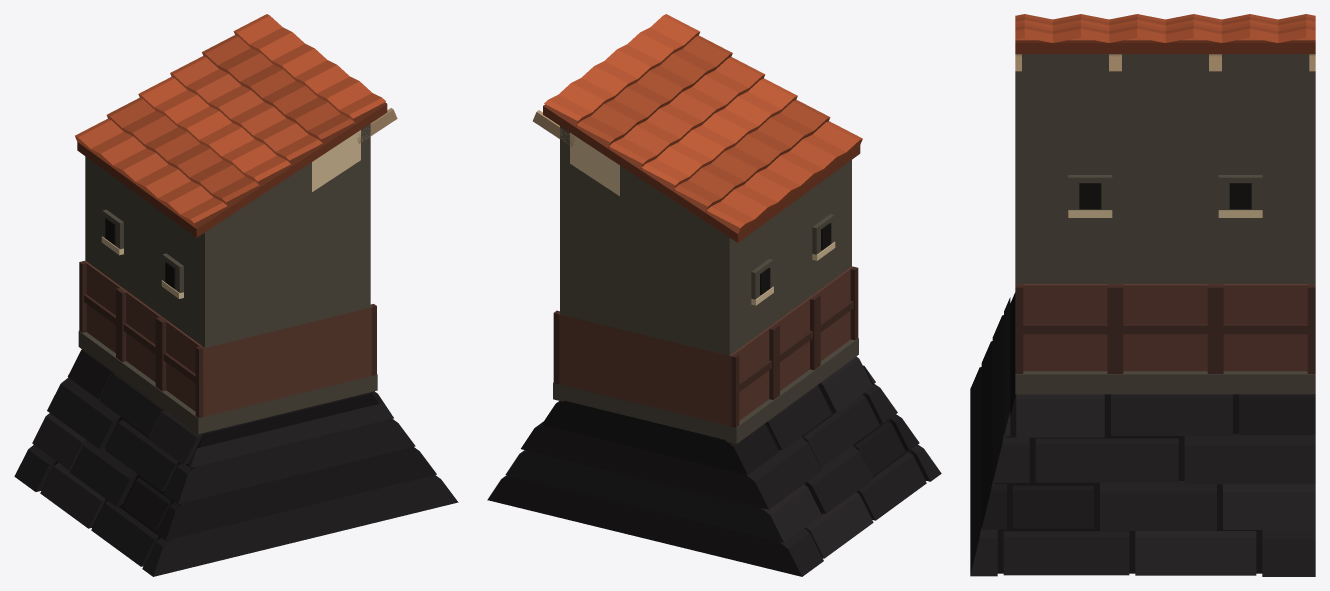
The model's file is VerWall06.glb.
3 views of the same model, side by side, from view 1: azimuth 30°, elevation 25°; view 2: azimuth 150°, elevation 25°; view 3: azimuth 270°, elevation 25° (orthographic). The views are drawn at different scales.
Visible parts, largest first — view 1: VerWall06_mortar; view 2: VerWall06_mortar; view 3: VerWall06_mortar.
Part boxes in pixels (x1,y1,x2,y2): VerWall06_mortar: (14, 14, 458, 576); VerWall06_mortar: (487, 14, 941, 576); VerWall06_mortar: (970, 14, 1315, 576).
Size of the model in its own units: 4.46 by 5.57 by 3.45.
